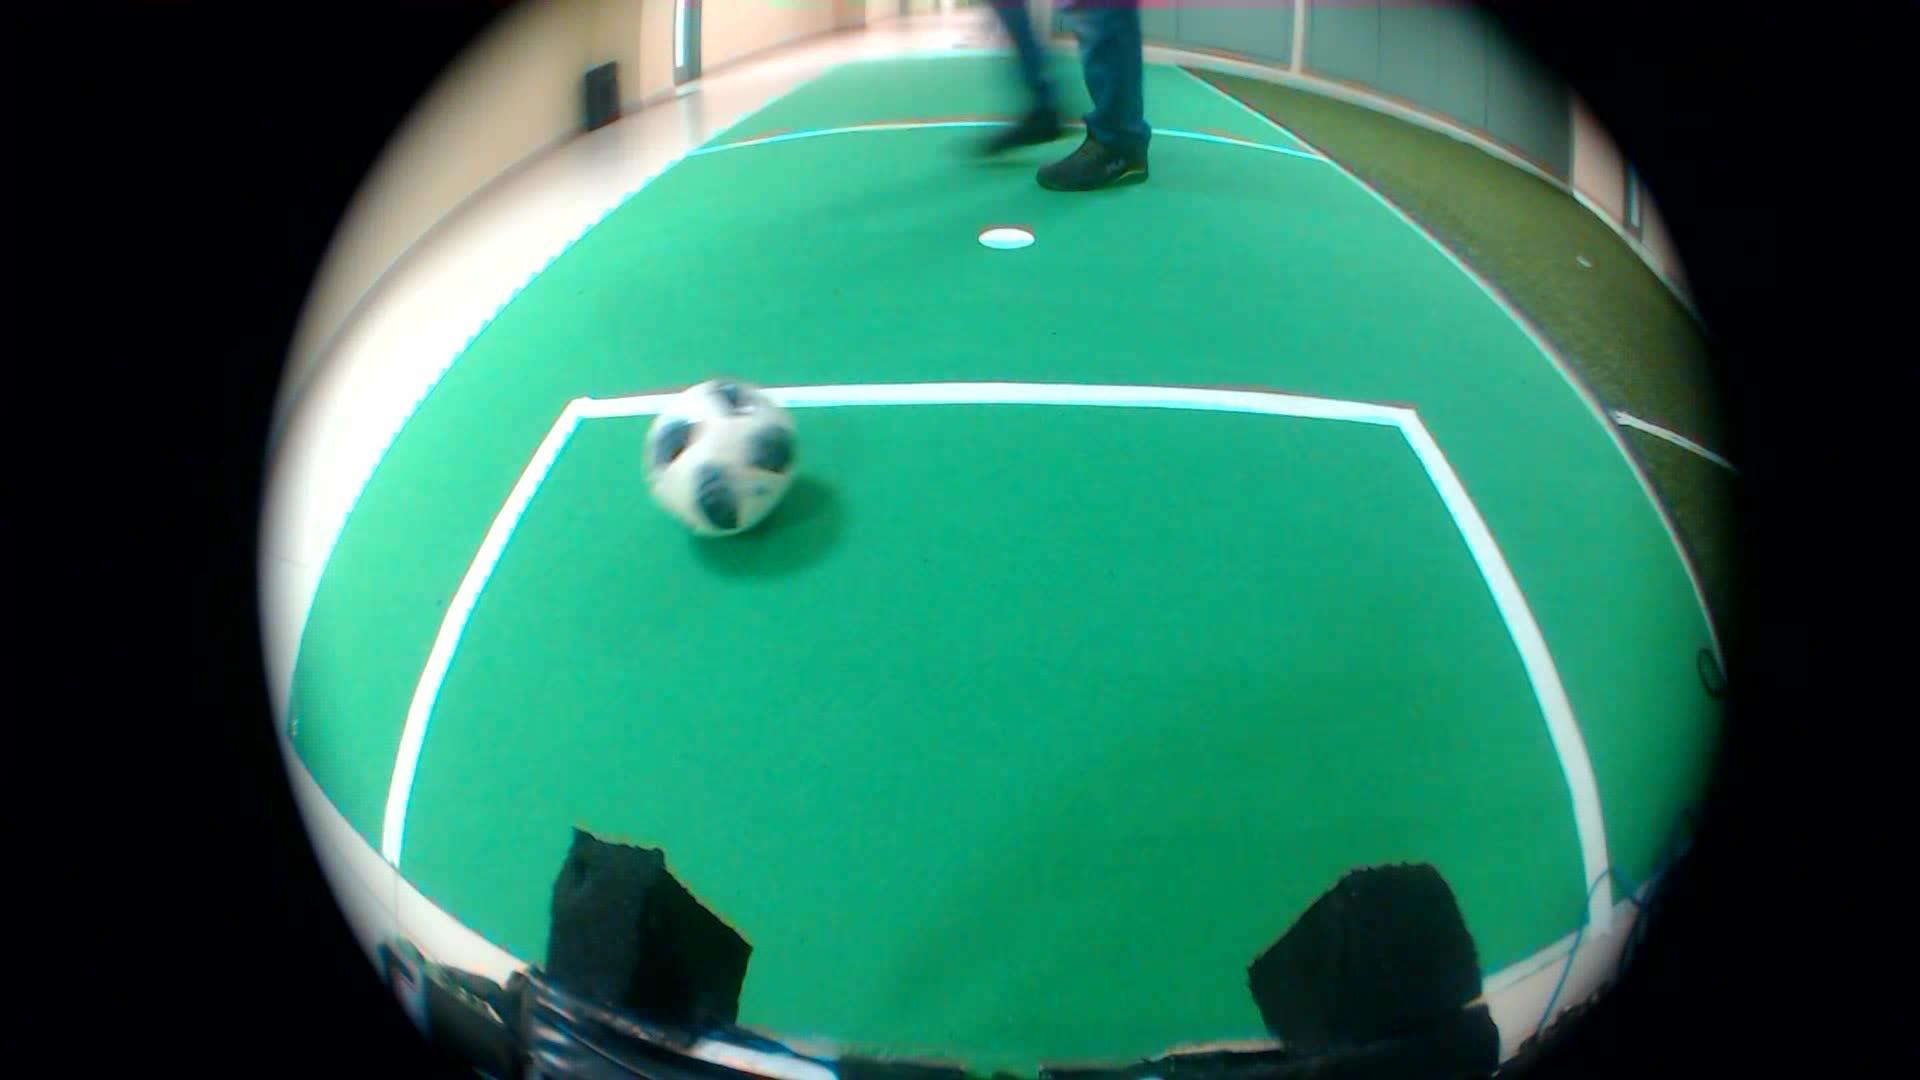ball: (611, 378, 825, 564)
